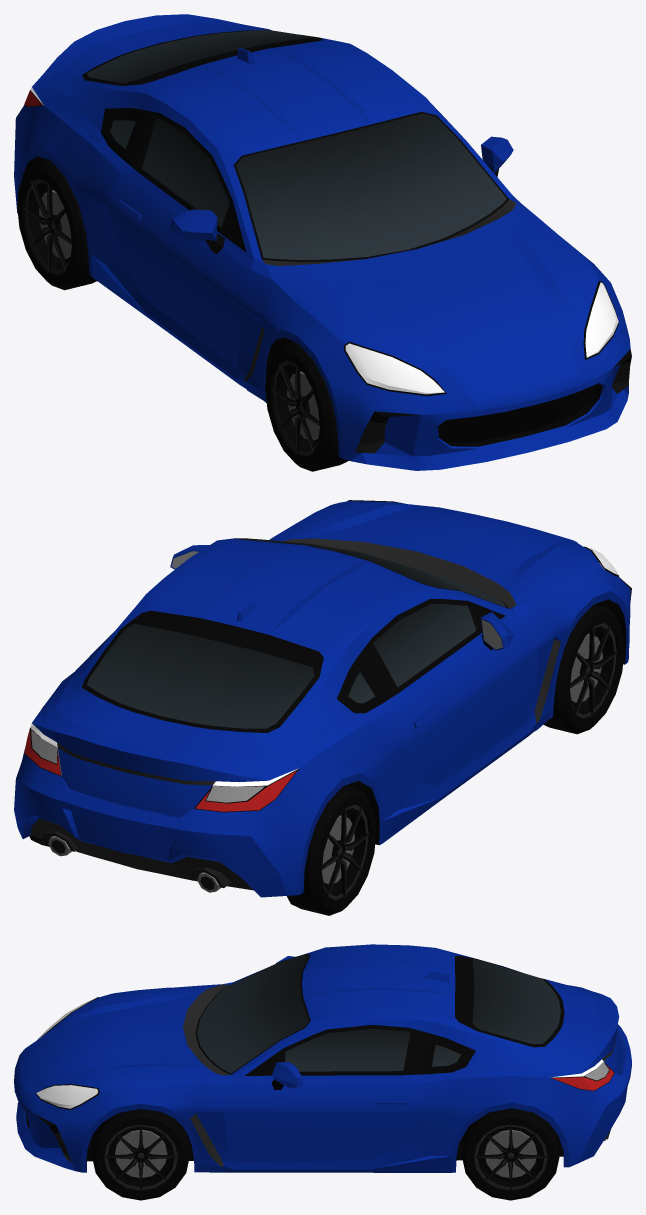
3 renders of one model, top to bottom at view 1: azimuth 30°, elevation 25°; view 2: azimuth 150°, elevation 25°; view 3: azimuth 270°, elevation 25°, orthographic. The views are drawn at different scales.
Visible parts, largest first — view 1: Body, FR, RR; view 2: Body, RR, FR; view 3: Body, RL, FL.
Boxes of the visible parts, <box> form: Body: <box>14,14,631,470</box>; FR: <box>265,342,348,471</box>; RR: <box>17,160,96,290</box>; Body: <box>14,500,631,897</box>; RR: <box>287,785,376,915</box>; FR: <box>543,604,624,734</box>; Body: <box>14,944,631,1172</box>; RL: <box>461,1108,559,1200</box>; FL: <box>92,1109,189,1200</box>.
Size of the model in its own units: 2.03 by 1.36 by 4.32.
2 materials, 2 textured.
